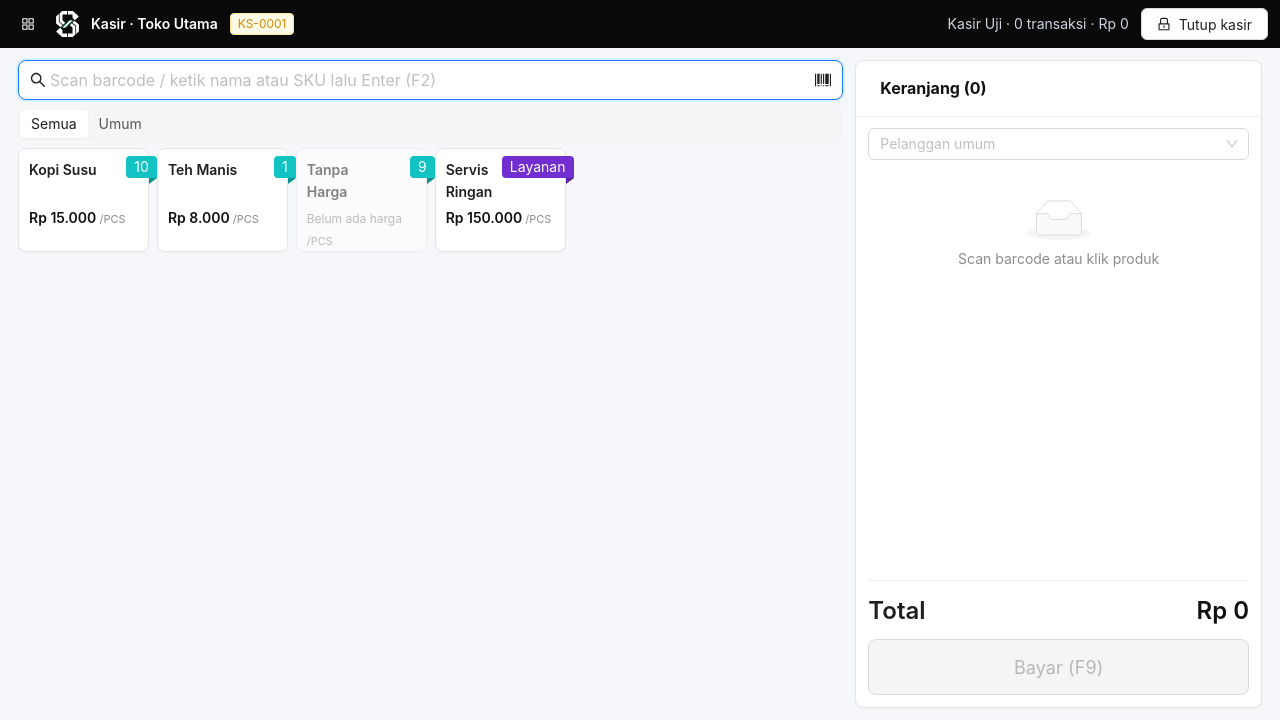
Kasir (Register) › layanan tanpa stok bisa masuk keranjang dan meminta petugas
Click the text "Servis Ringan": (467, 170) [446,161,492,200]
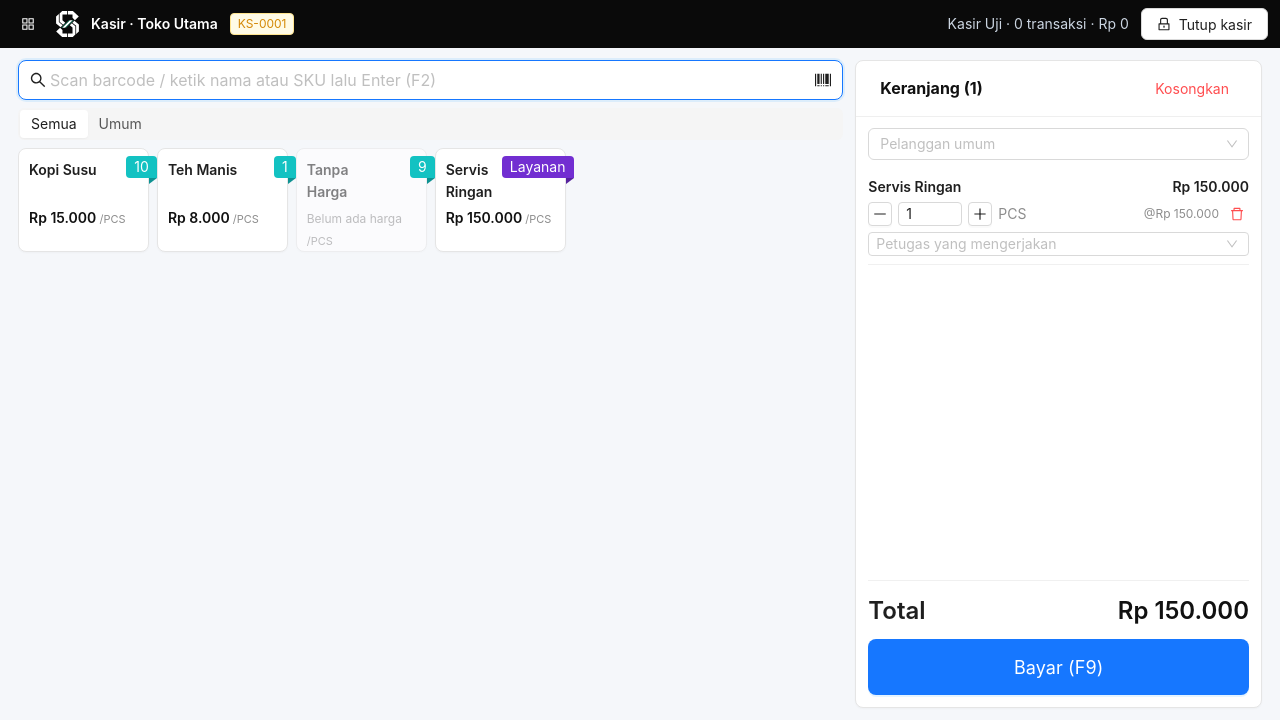
Now the text "Keranjang (1)" is shown, box [880,78,983,98]
Now the text "Petugas yang mengerjakan" is shown, box [876,235,1056,252]
